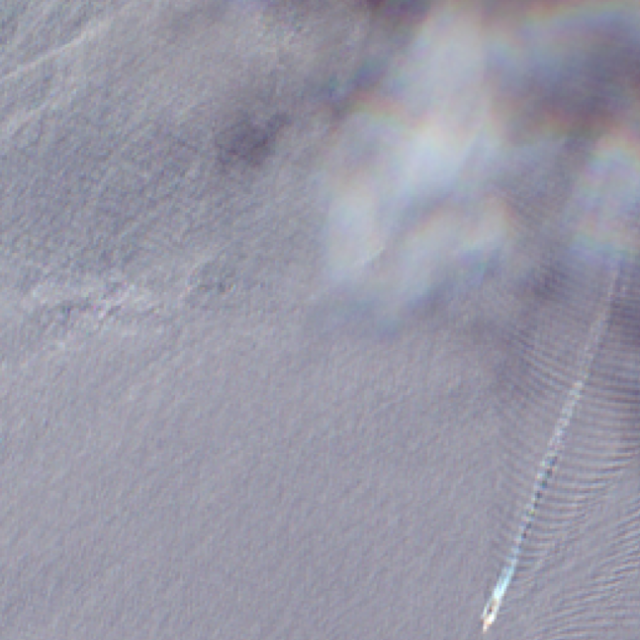wake: (439, 375, 630, 638)
